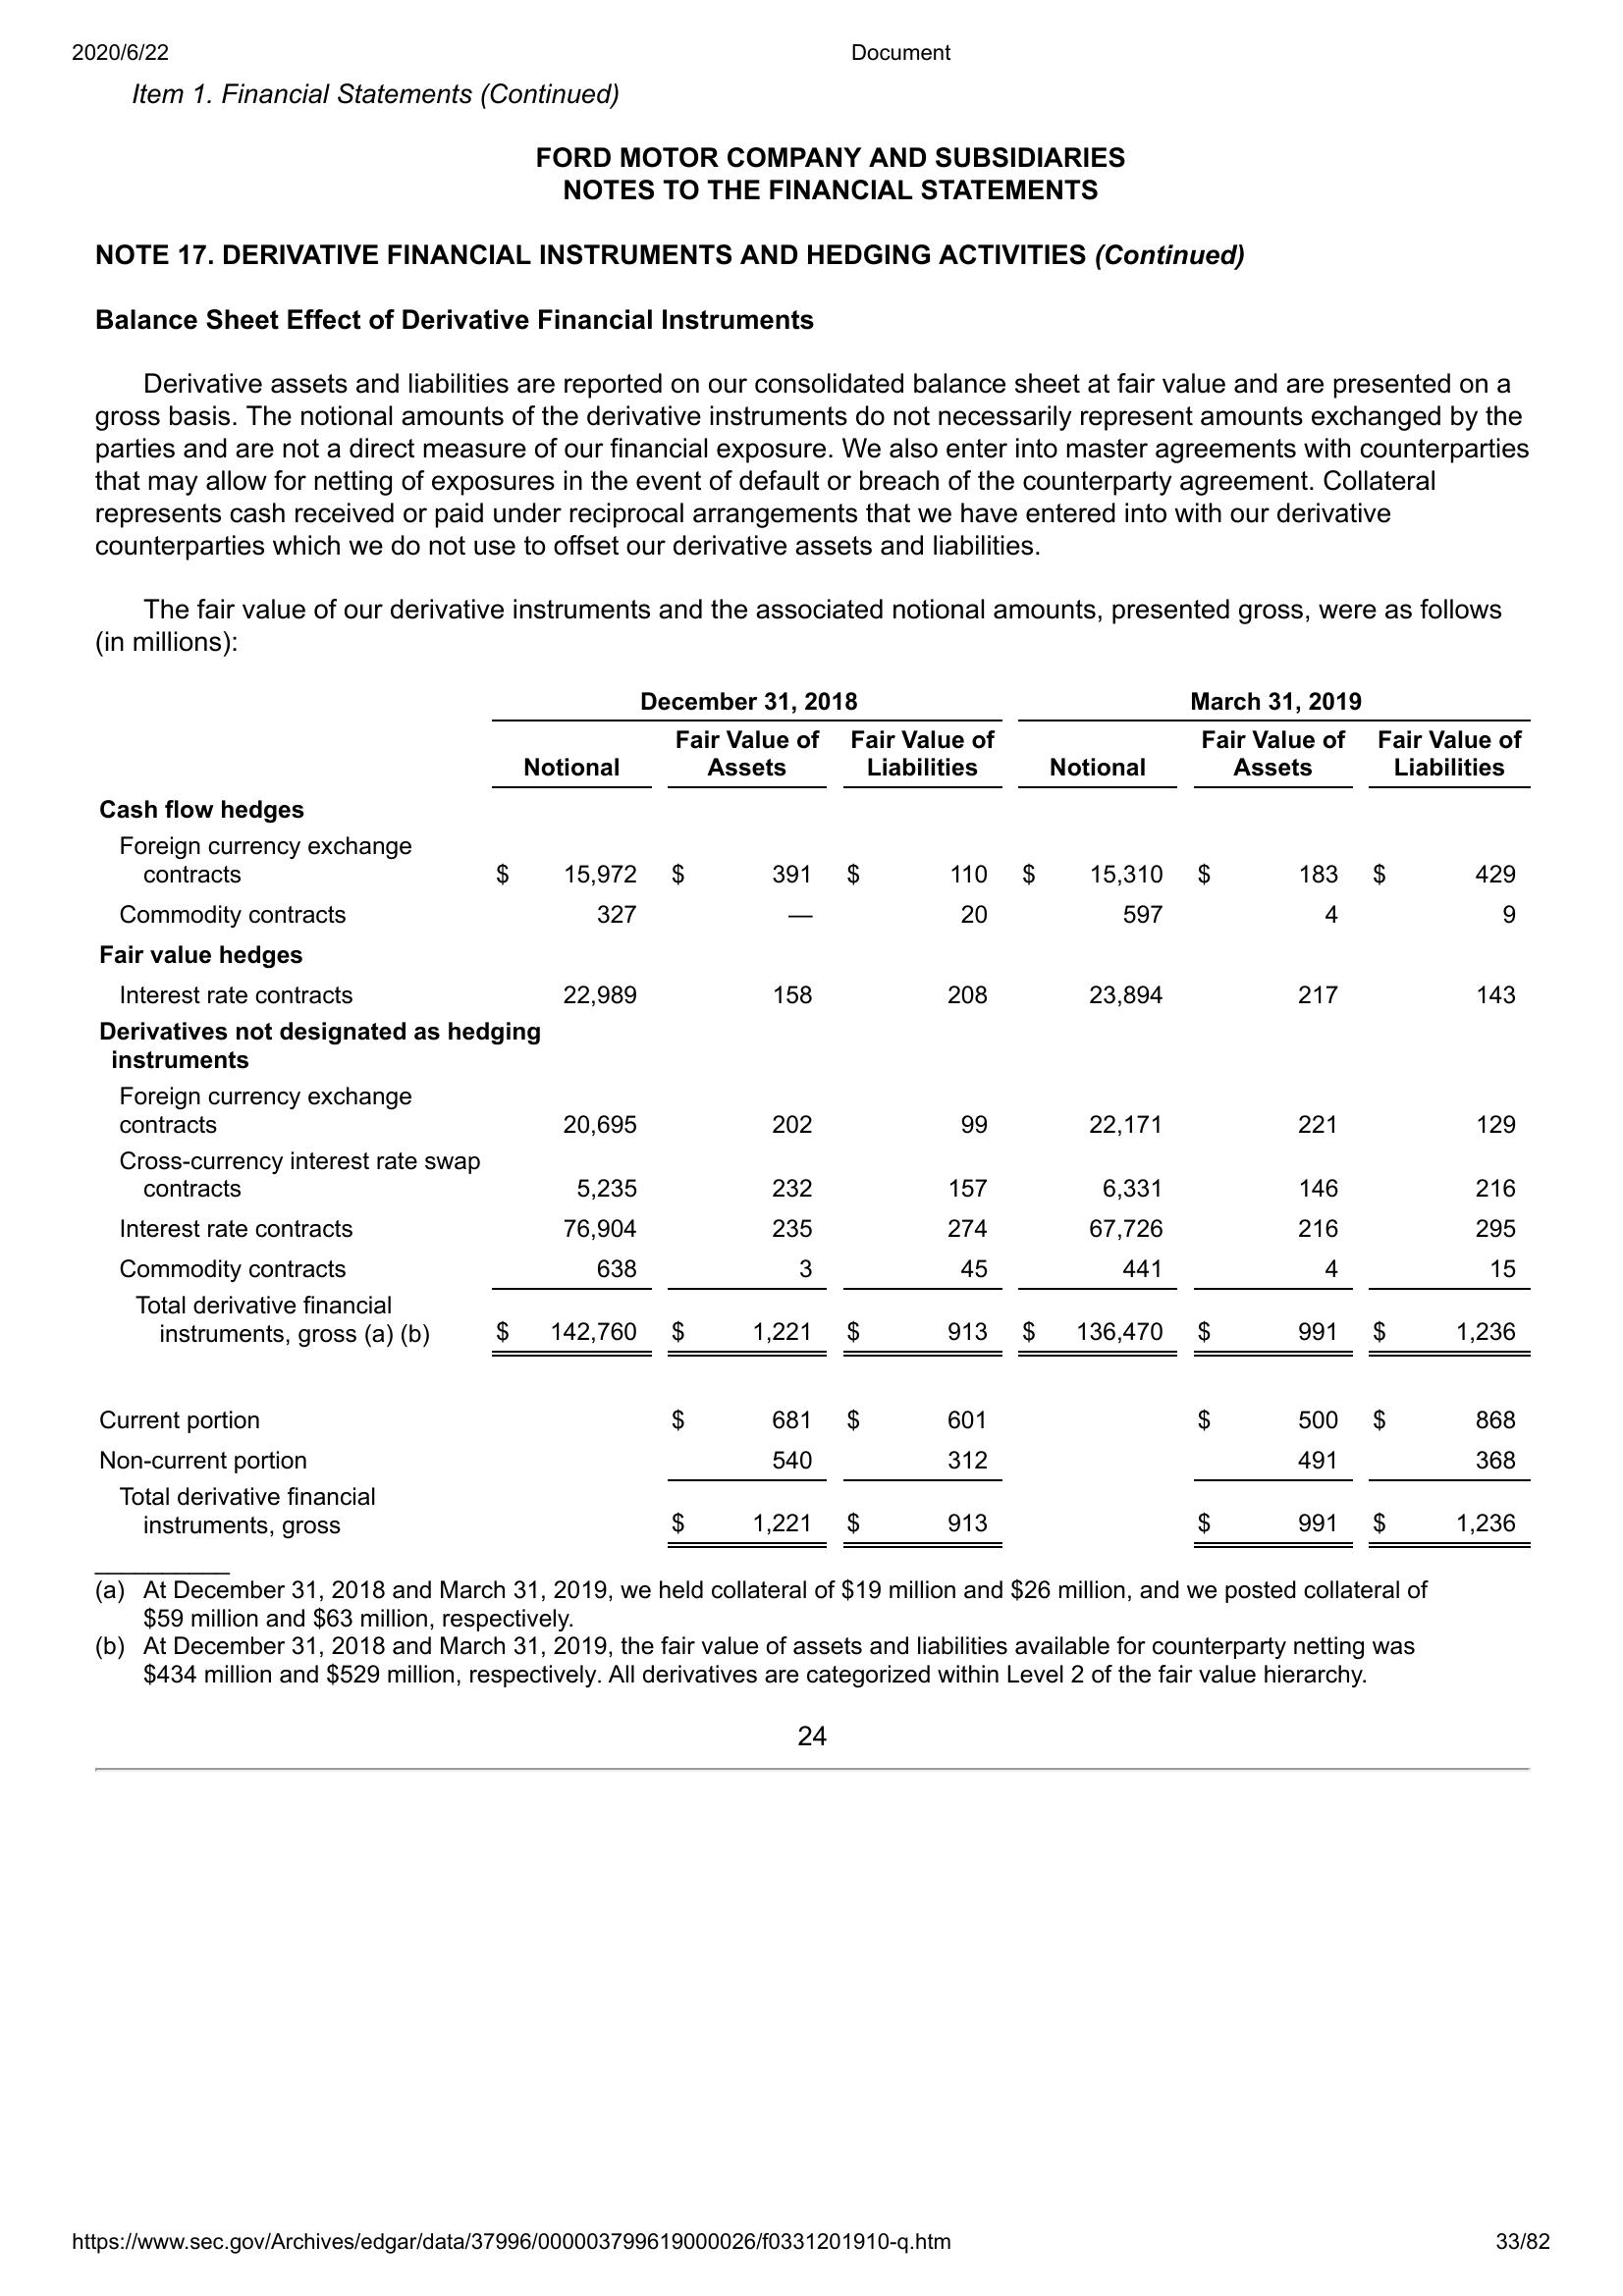table: (90, 674, 1530, 1555)
